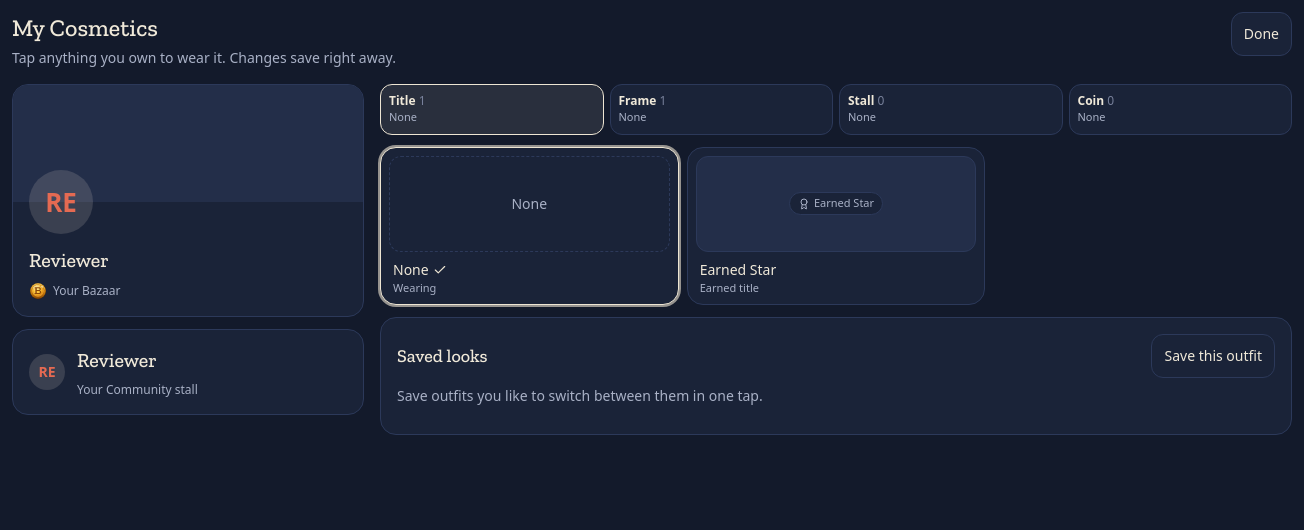
dressing room › puts the outfit back and explains when a save fails
Check: the element named "Cosmetic slots" is shown, box top-left (380, 84), bottom-right (1292, 134)
Click the tab "Frame 1 None" at (721, 109), box top-left (610, 84), bottom-right (833, 134)
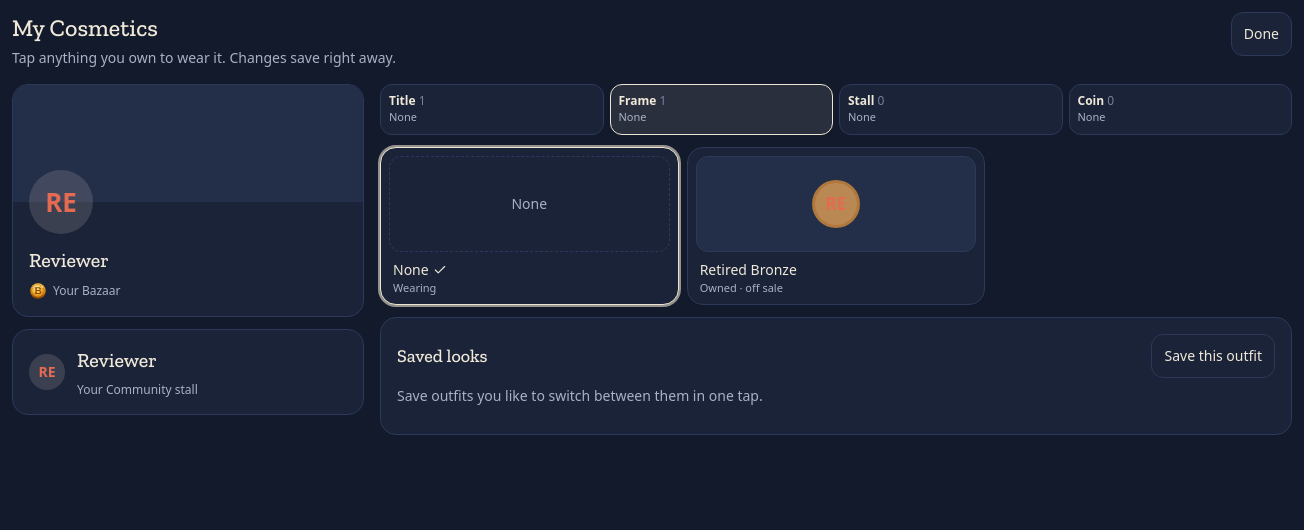
Click the button "RE Retired Bronze Owned · off sale" at (836, 226), box top-left (687, 146), bottom-right (985, 305)
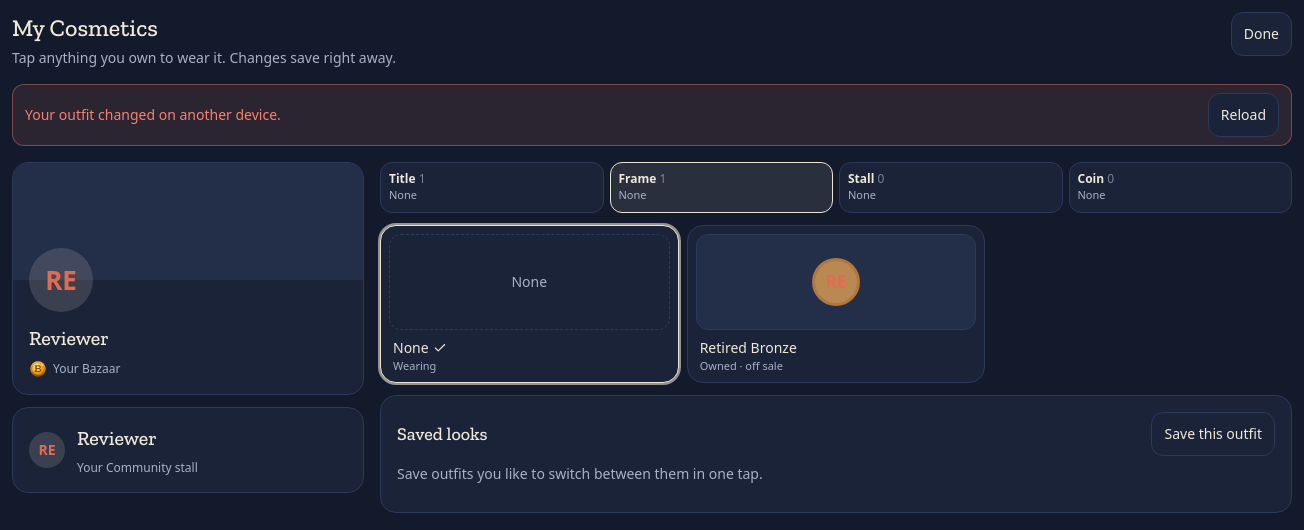
Check: the message shows "changed on another device", box top-left (25, 105), bottom-right (281, 124)
